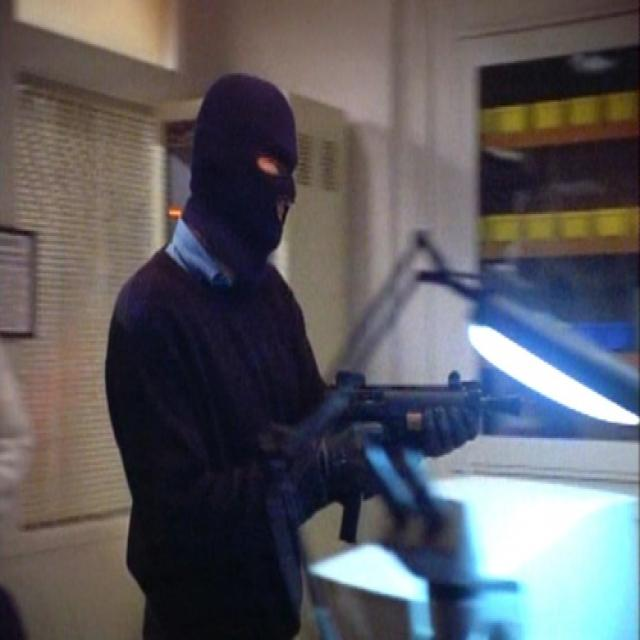rifle: (282, 370, 526, 556)
